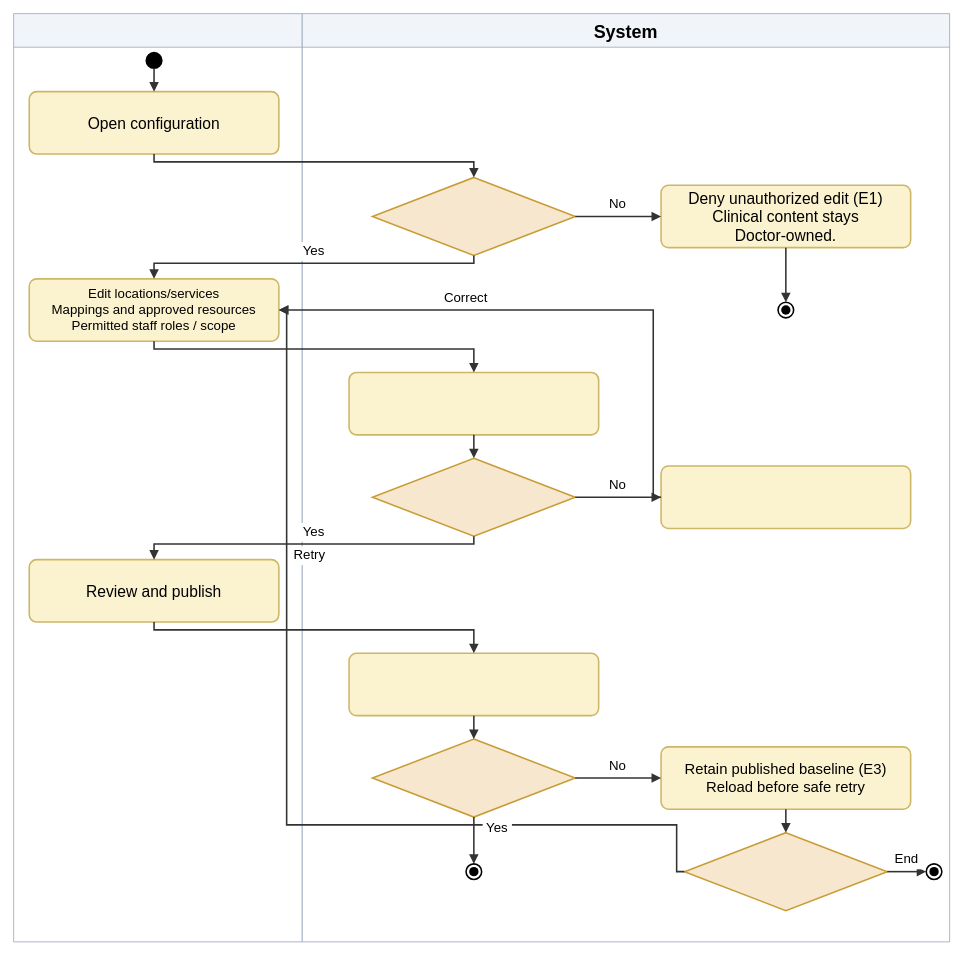
Image size: 963x955. Some labels were removed from this diagram. Here are the shapes that lost their labels. From the top down, the box of each, then its label:
(371, 176, 576, 256): Authorized operational configuration edit?
(348, 371, 599, 435): Unapproved translation (A2): leave unpublished; keep approved fallback.
(13, 13, 302, 942): Administrator
(371, 457, 576, 537): Dependencies and active references valid?
(660, 465, 911, 529): Reject invalid publication (E2) Show configuration issues
(348, 652, 599, 716): Save version and audit event Preserve active/historical links (A1)
(371, 738, 576, 817): Publication confirmed?
(683, 831, 888, 911): Retry after reload?
